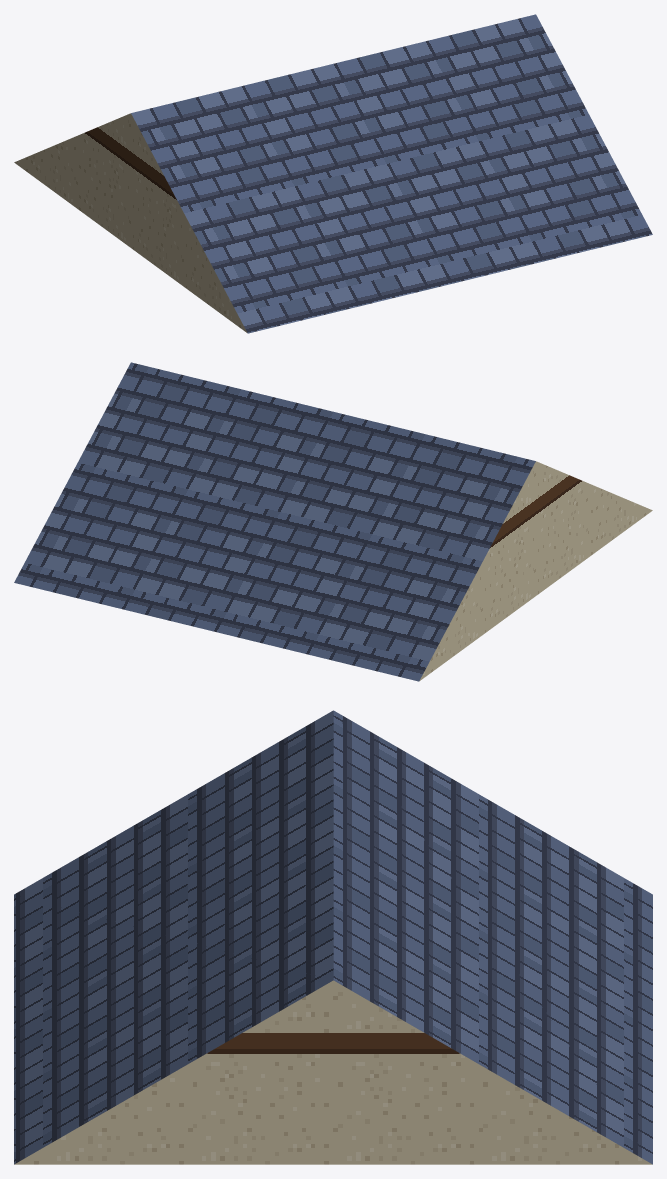
File: roof_4m.glb
3 views of the same model, one above another, from view 1: azimuth 30°, elevation 25°; view 2: azimuth 150°, elevation 25°; view 3: azimuth 270°, elevation 25° (orthographic). The views are drawn at different scales.
Parts seen in each view (by area): view 1: roof; view 2: roof; view 3: roof.
Part boxes in pixels (left/top/right/bottom): roof: left=14, top=14, right=652, bottom=333; roof: left=14, top=362, right=652, bottom=681; roof: left=14, top=710, right=652, bottom=1164.
Size of the model in its own units: 4.4 by 1.4 by 4.4.
2 materials, 2 textured.
